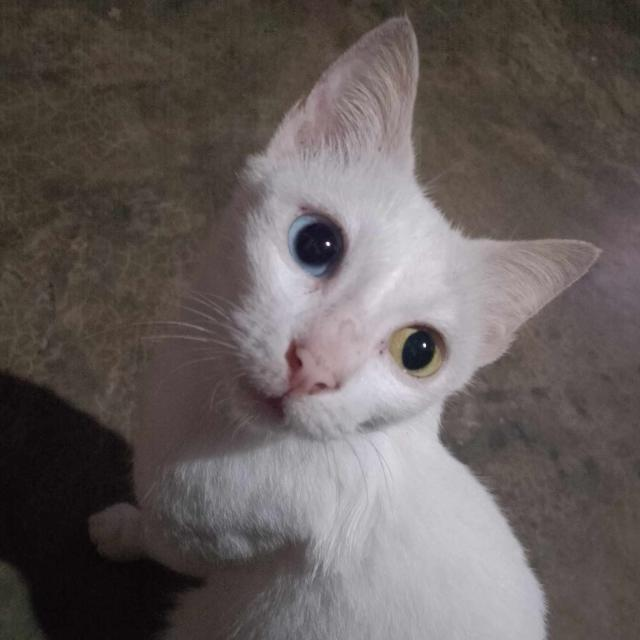Khao Manee: (74, 7, 606, 640)
